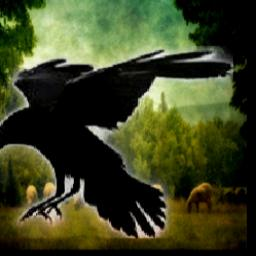Crow: (0, 46, 232, 238)
